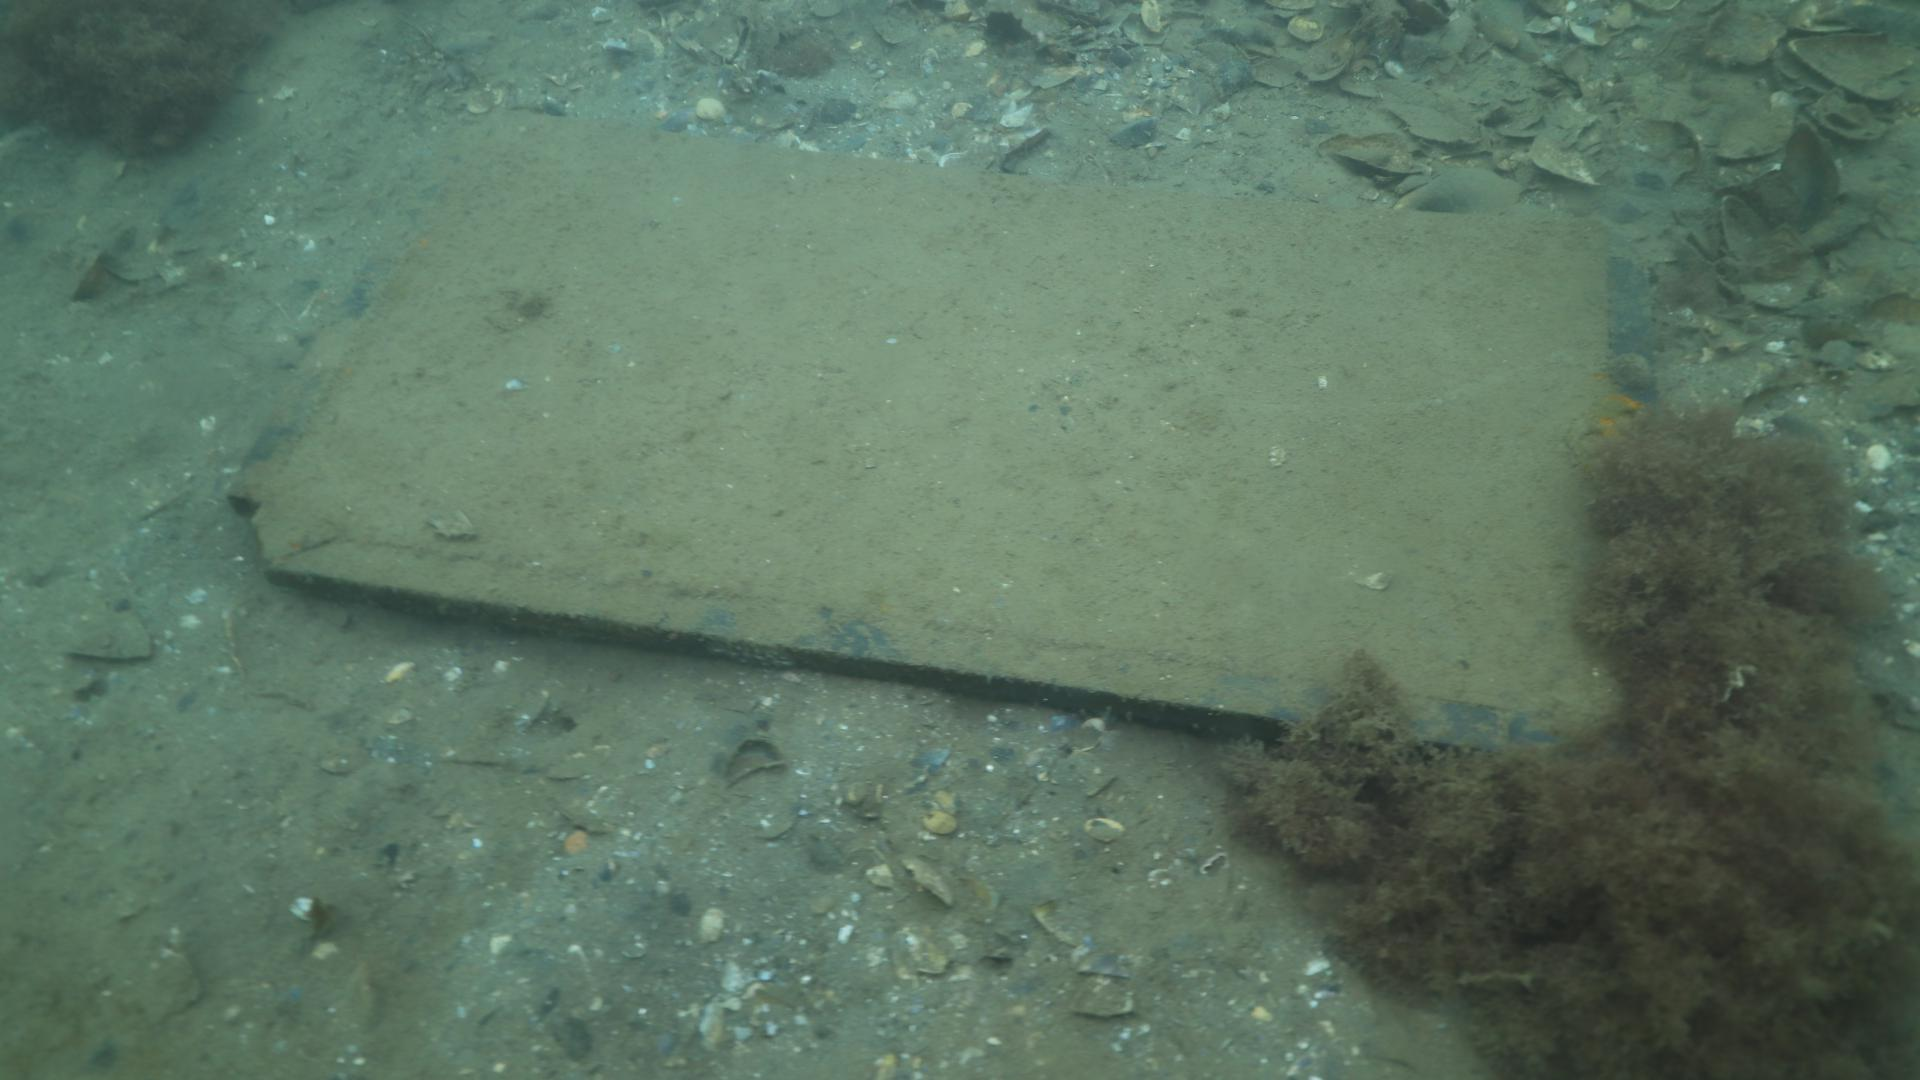wood: (232, 111, 1629, 761)
